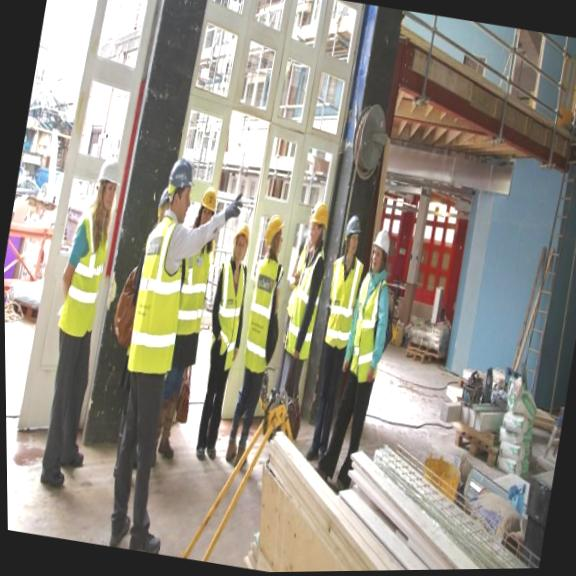safety_vest: (120, 219, 194, 392), (48, 205, 117, 356), (337, 262, 394, 400), (276, 235, 330, 369), (234, 248, 289, 376), (171, 213, 222, 351), (203, 253, 253, 376), (316, 252, 362, 364)
